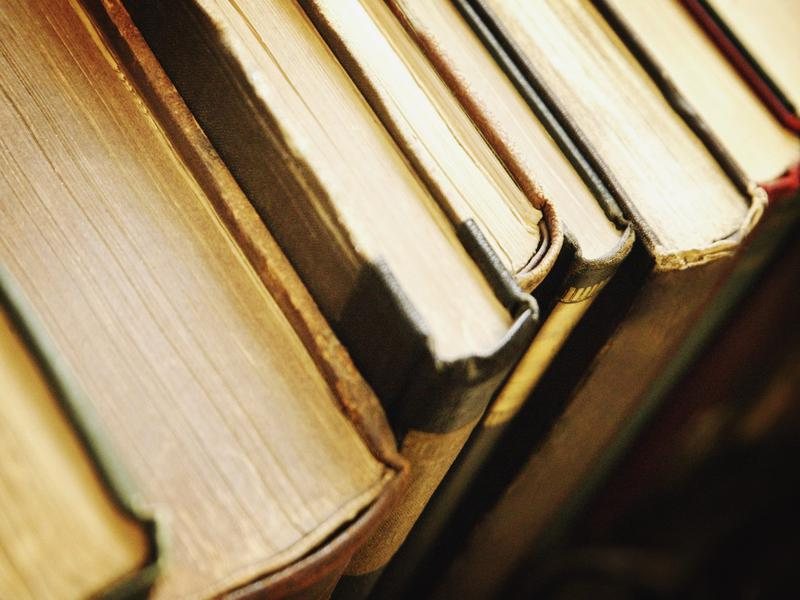book: (163, 17, 541, 600)
